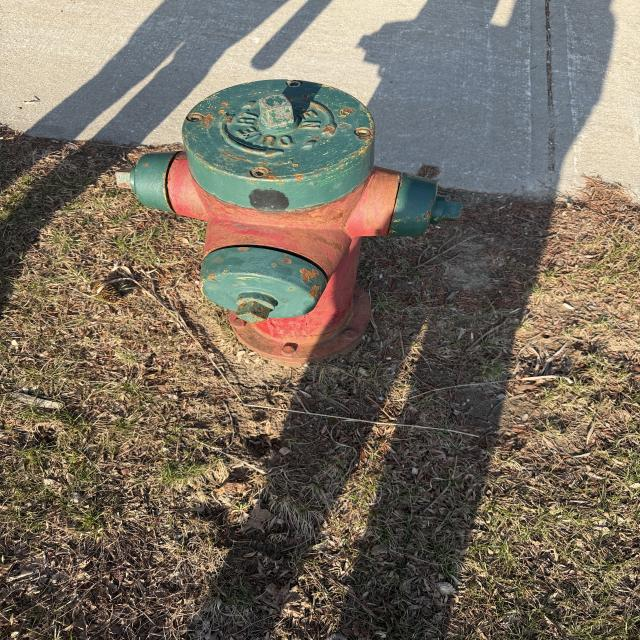Fire hydrant: (115, 79, 464, 368)
